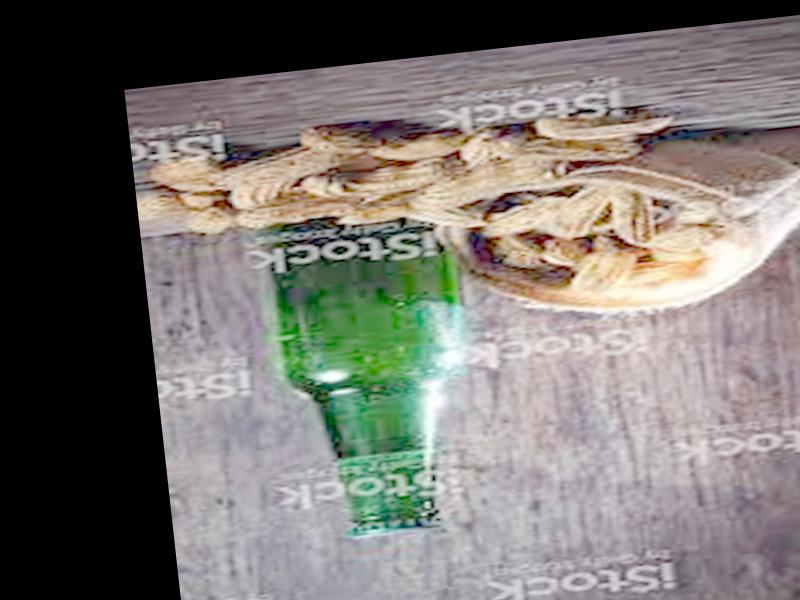Beer: (259, 180, 493, 548)
